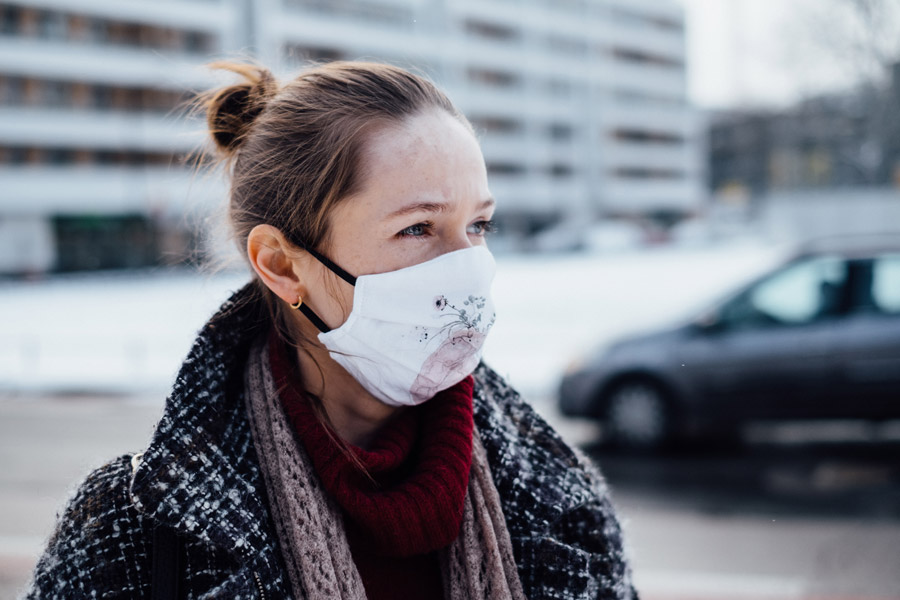female: (16, 56, 641, 600)
